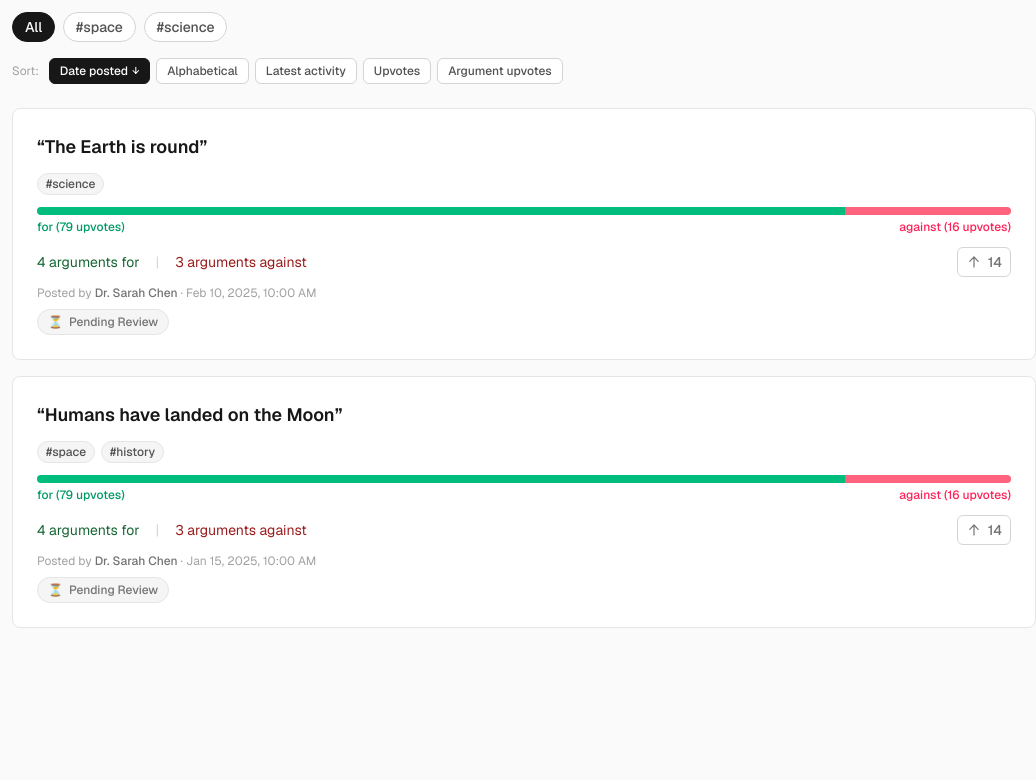
it: StatementList › shows all statements when 'All' is clicked after filtering
This screenshot has width=1036, height=780.
Click the button "#science" at {"x": 186, "y": 27}, box left=144, top=12, right=228, bottom=42
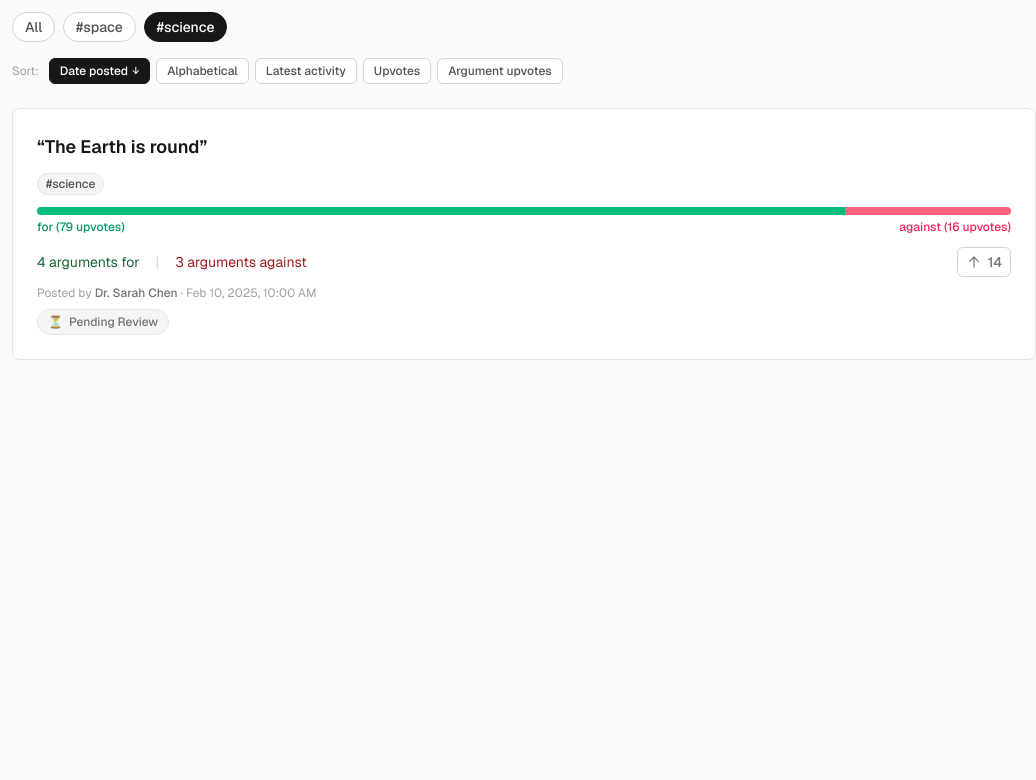
Click the button "All" at {"x": 34, "y": 27}, box left=12, top=12, right=55, bottom=42
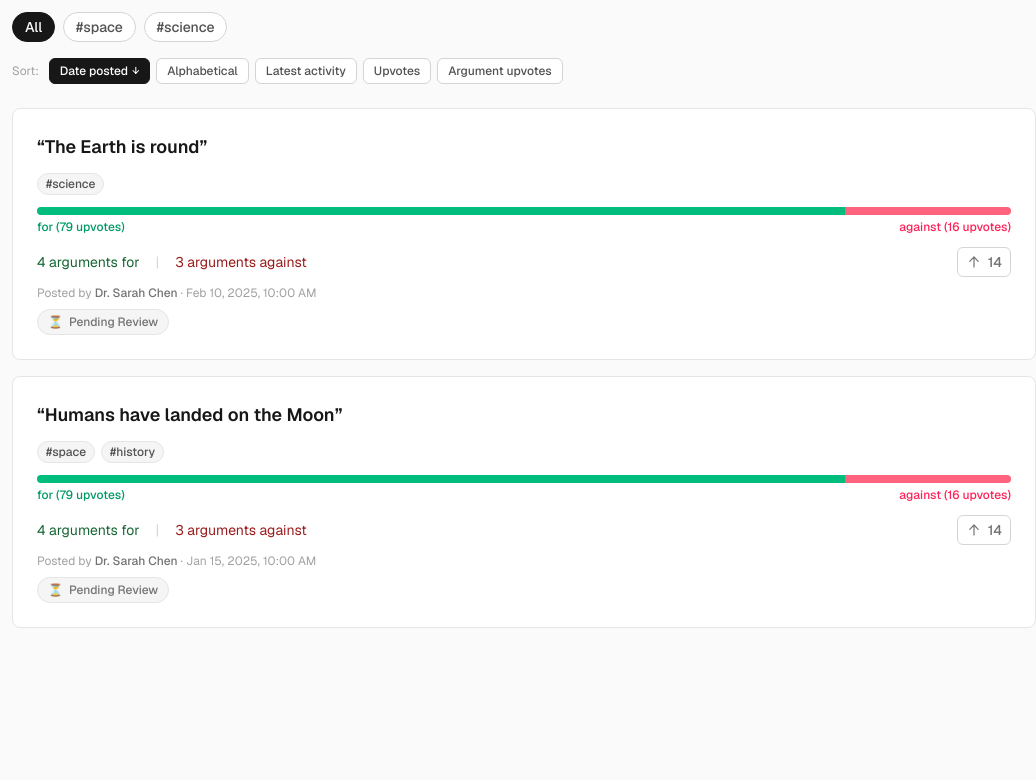
Check: the heading "“The Earth is round”" is shown, box left=37, top=135, right=207, bottom=158
Check: the heading "“Humans have landed on the Moon”" is shown, box left=37, top=403, right=342, bottom=426
